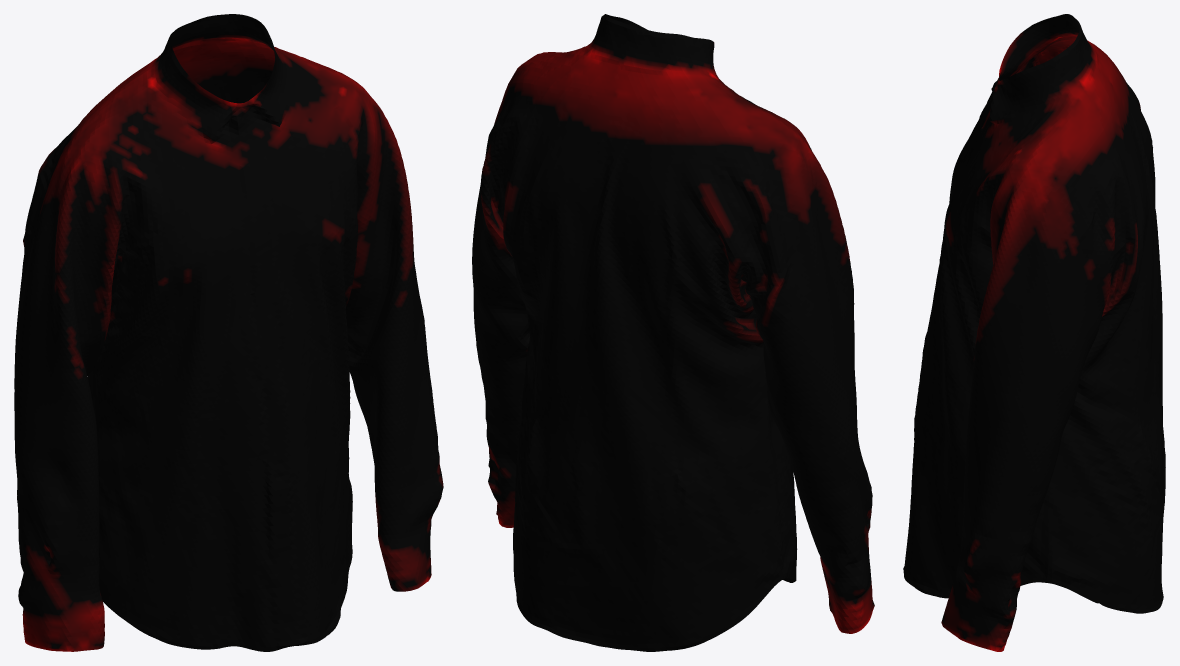
Rendered from heatMap.obj.
3 renders of one model, left to right at view 1: azimuth 30°, elevation 25°; view 2: azimuth 150°, elevation 25°; view 3: azimuth 270°, elevation 25°, orthographic. The views are drawn at different scales.
Bounding box in the file's own units: 22.94 × 32.4 × 13.91.
